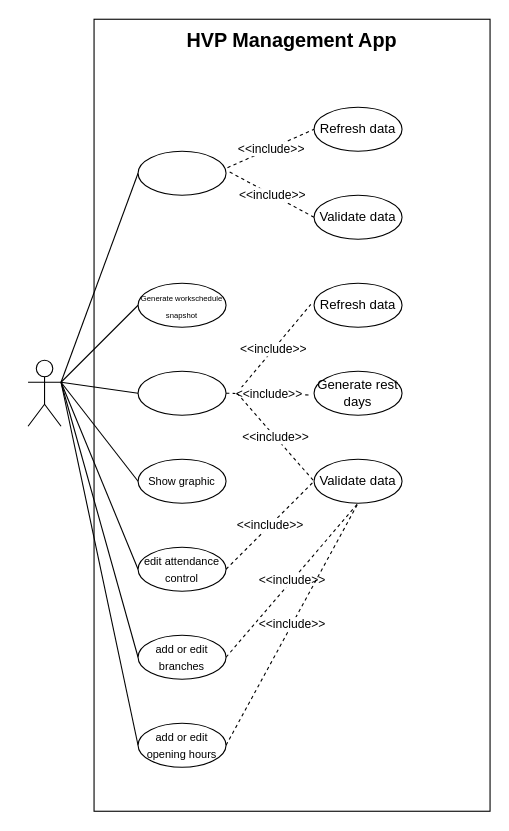
This 509x831 diagram has some shape labels left out. The shapes that lost their labels are listed below. From the top down, each one's centre as x and y in pixels, then its label:
the point at 181,172: Edit or add collaborators
the point at 44,392: Manager
the point at 181,392: Edit or add workschedule
